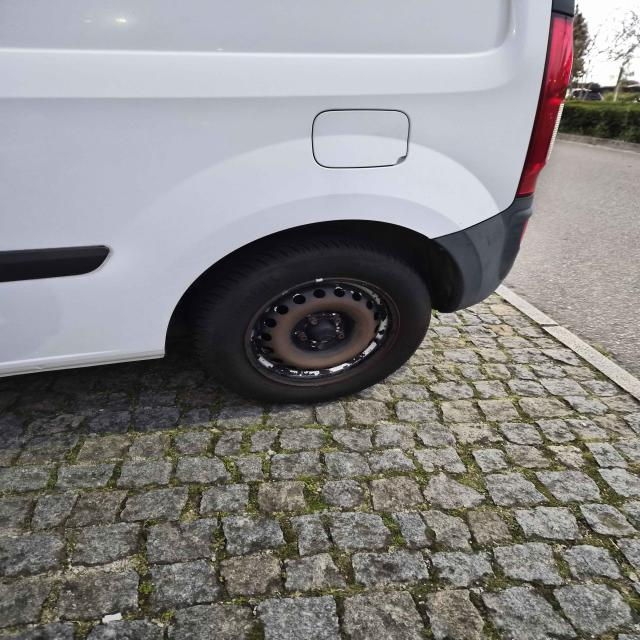jante: (244, 279, 400, 388)
parafuso: (332, 315, 342, 324), (315, 342, 326, 350), (298, 333, 309, 341), (308, 317, 318, 325), (336, 332, 345, 339)
roda: (186, 230, 434, 411)
